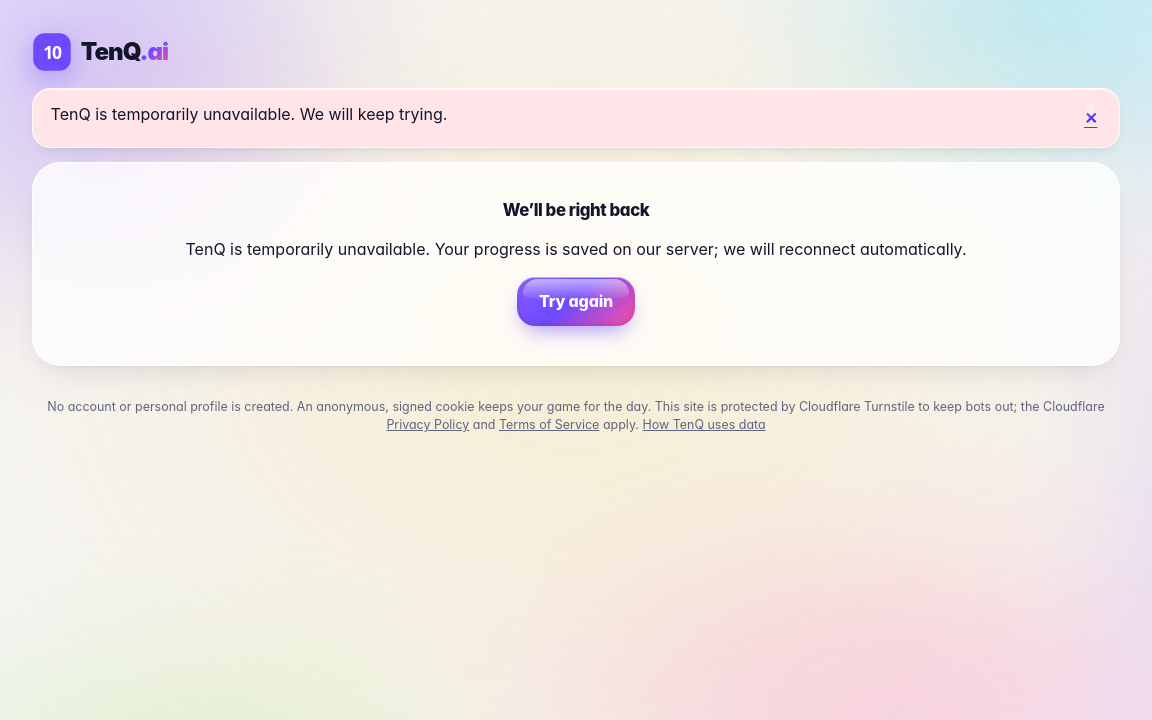
Test: session and loading › shows a maintenance screen and recovers with Try again
This screenshot has width=1152, height=720.
Expected: the heading "We’ll be right back" is shown, left=503, top=200, right=649, bottom=220
Step 1. Click the button "Try again" → (576, 302), box left=517, top=277, right=635, bottom=326
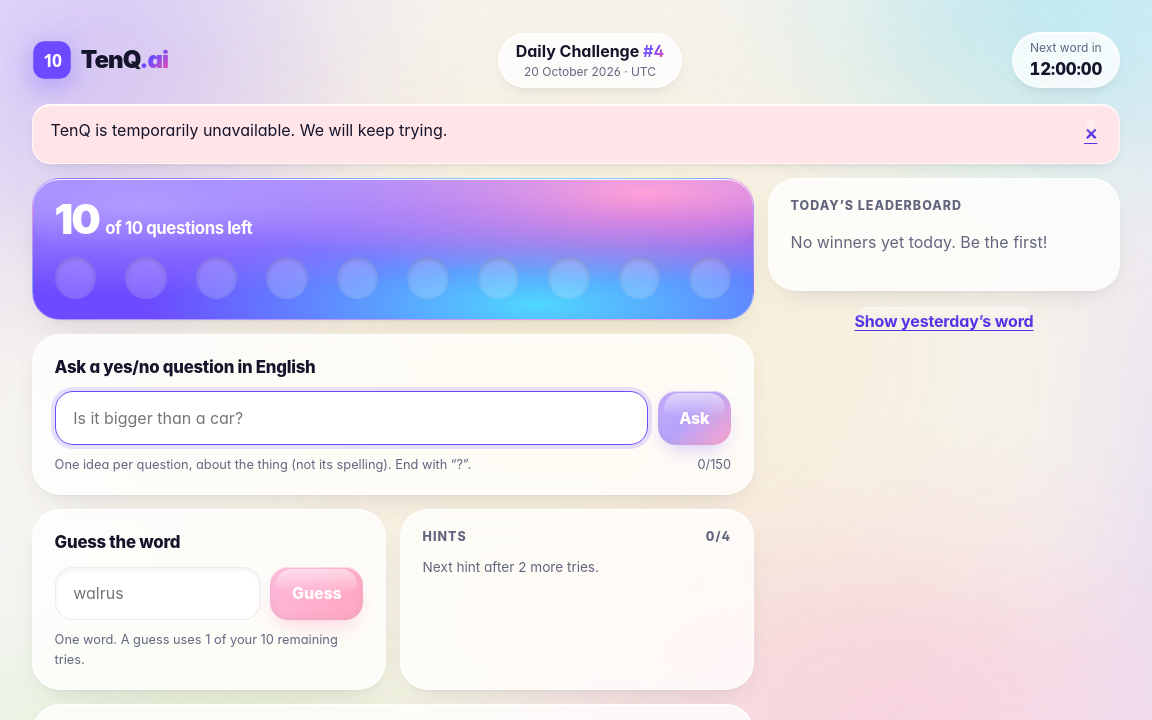
Expected: the heading "10 of 10 questions left" is shown, left=55, top=194, right=252, bottom=244
